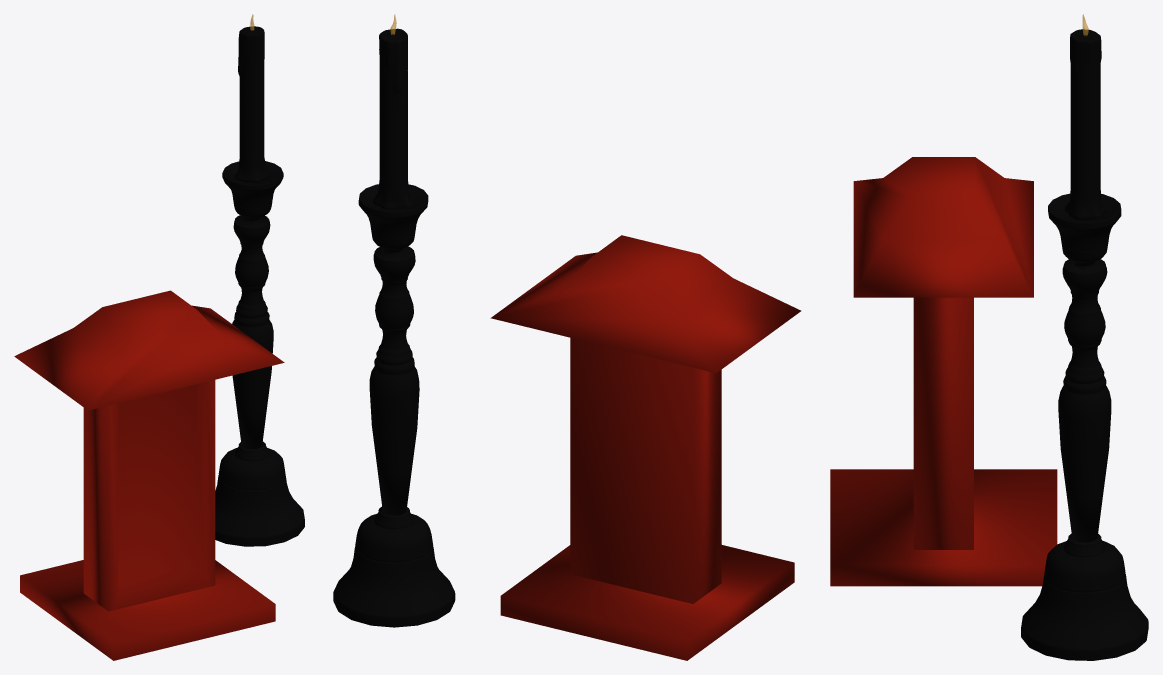
The model's file is Tablet&Candle.fbx.
The picture shows the model from 3 angles, left to right: view 1: azimuth 30°, elevation 25°; view 2: azimuth 150°, elevation 25°; view 3: azimuth 270°, elevation 25°; orthographic projection. The views are drawn at different scales.
Visible parts, largest first — view 1: Cube, Body; view 2: Cube, Body; view 3: Cube, Body.
Part boxes in pixels (<box>): Cube: <box>14,290,284,660</box>; Body: <box>215,14,304,546</box>; Cube: <box>490,235,801,660</box>; Body: <box>333,14,455,627</box>; Cube: <box>830,157,1057,586</box>; Body: <box>1021,14,1148,660</box>.
Size of the model in its own units: 402 by 645 by 300.
